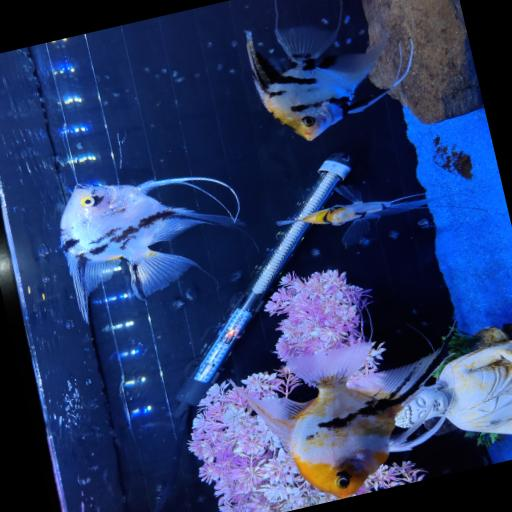Fish: (240, 342, 444, 498), (61, 177, 243, 321), (247, 24, 413, 140), (277, 185, 451, 244)
